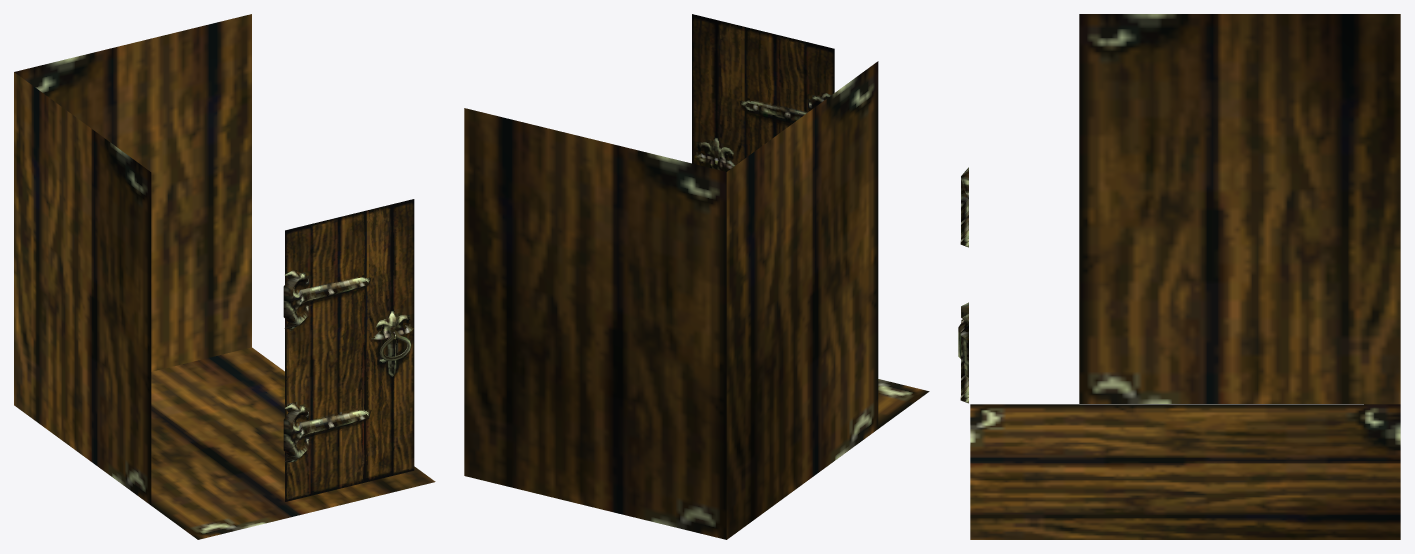
Rendered from CH08_CIN08_DOOR.fbx.
3 renders of one model, left to right at view 1: azimuth 30°, elevation 25°; view 2: azimuth 150°, elevation 25°; view 3: azimuth 270°, elevation 25°, orthographic. The views are drawn at different scales.
Visible parts, largest first — view 1: CH08_CIN08_DOOR; view 2: CH08_CIN08_DOOR; view 3: CH08_CIN08_DOOR.
Part boxes in pixels (x1=…): CH08_CIN08_DOOR: x1=14, y1=14, x2=435, y2=539; CH08_CIN08_DOOR: x1=464, y1=14, x2=929, y2=539; CH08_CIN08_DOOR: x1=958, y1=14, x2=1400, y2=539.
Bounding box in the file's own units: 20985 × 28114 × 28883.
Materials: 1 (1 with a texture image).
